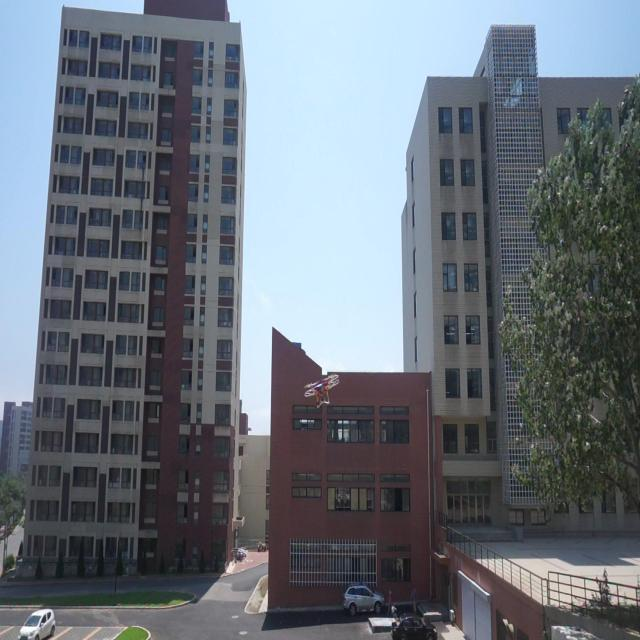drone: (301, 369, 341, 409)
